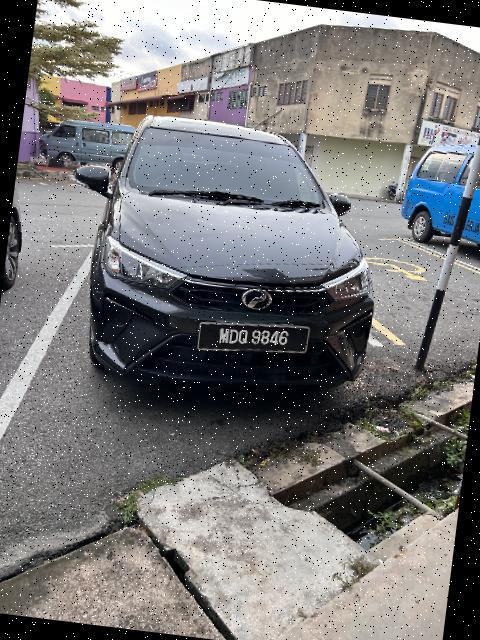License_Plate: (194, 309, 314, 368)
car: (60, 102, 414, 424), (5, 182, 31, 290)
